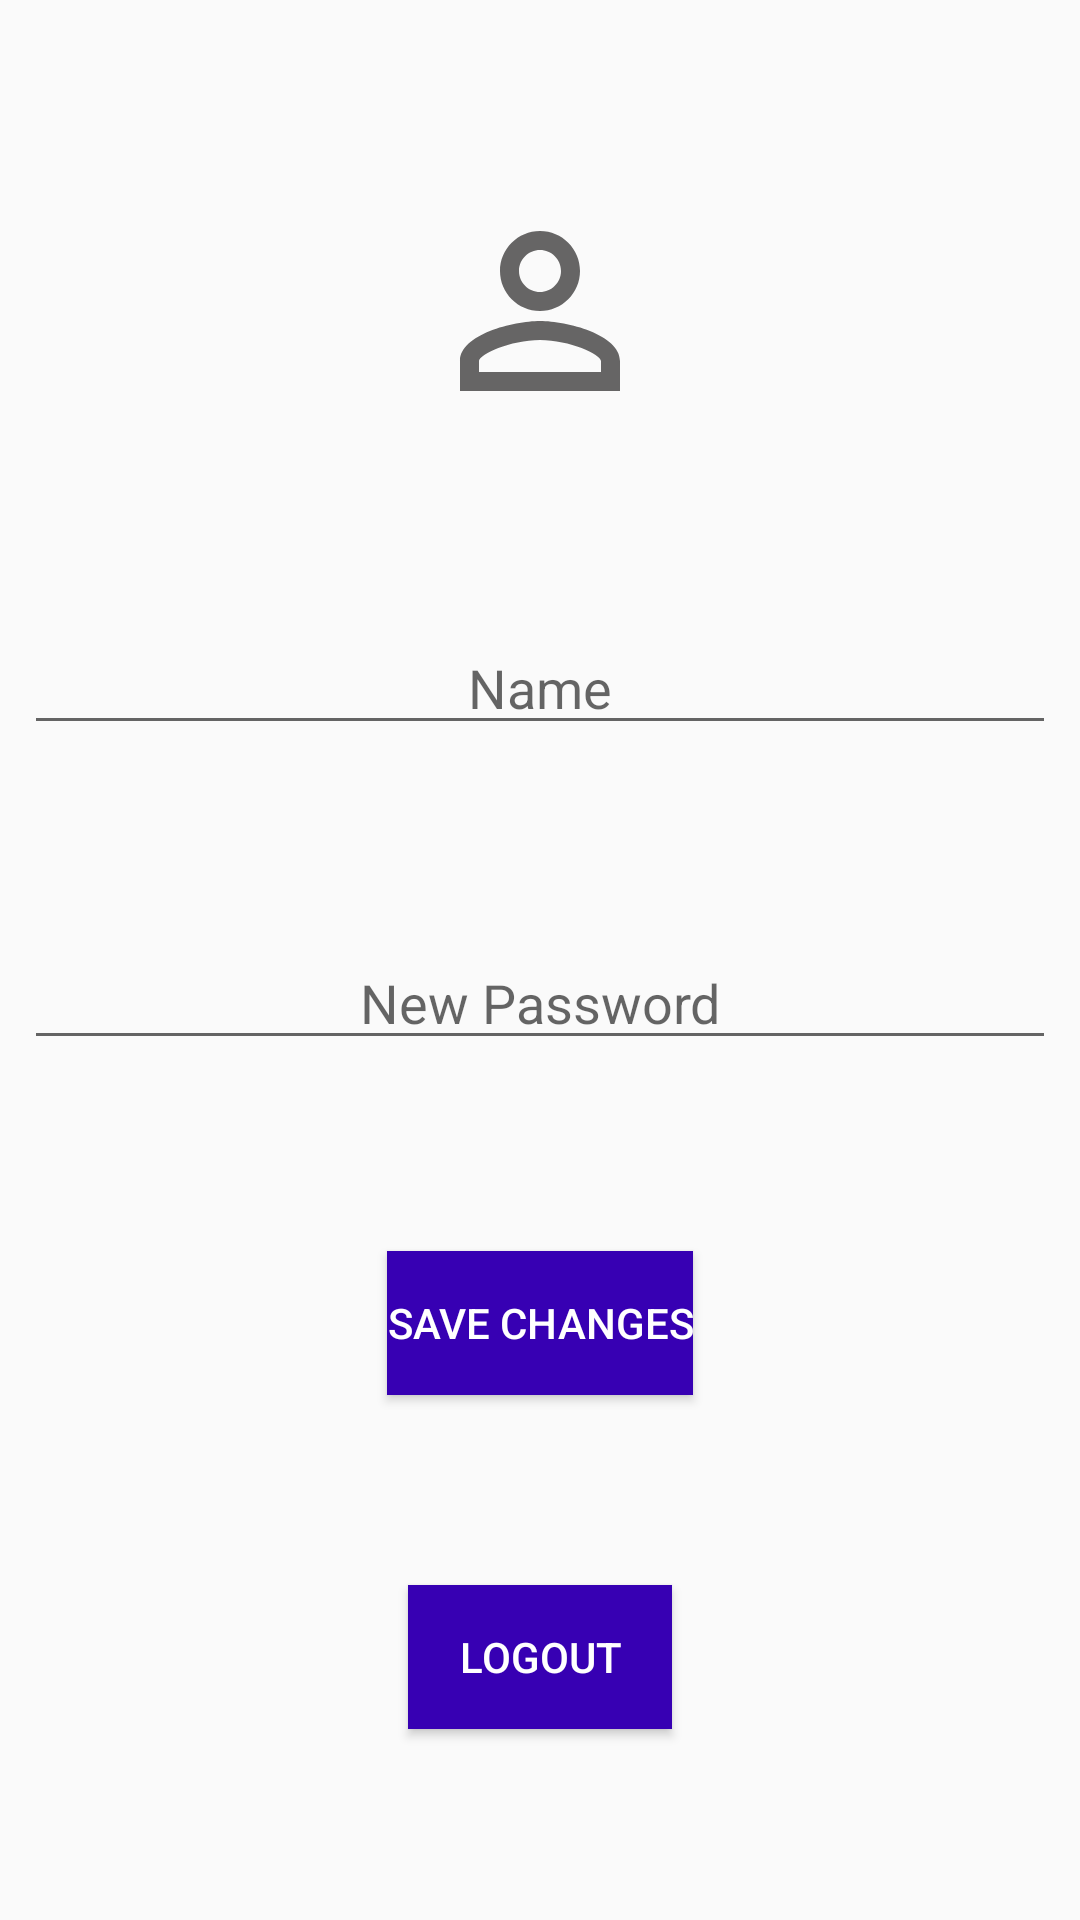

Icon click points for this 1080x1920 phone screenshot, format point (x, y):
profile: point (540, 311)
